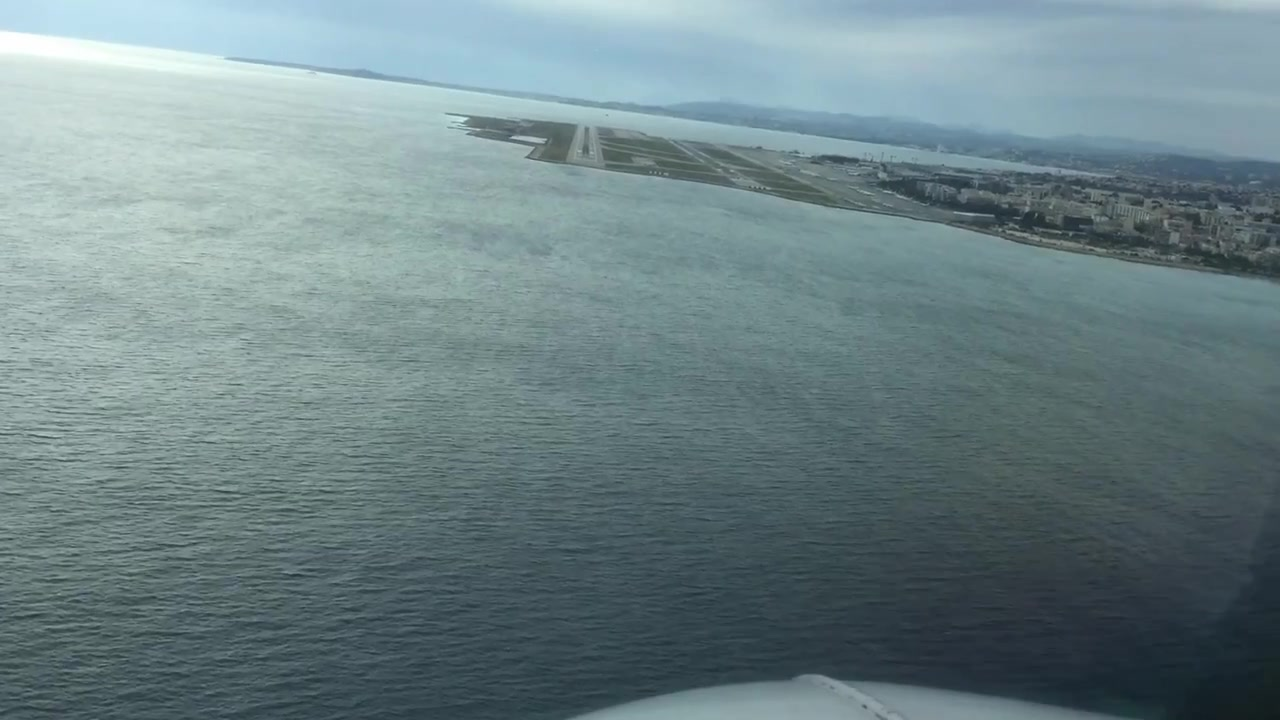runway: (673, 140, 760, 187), (566, 121, 603, 170)
